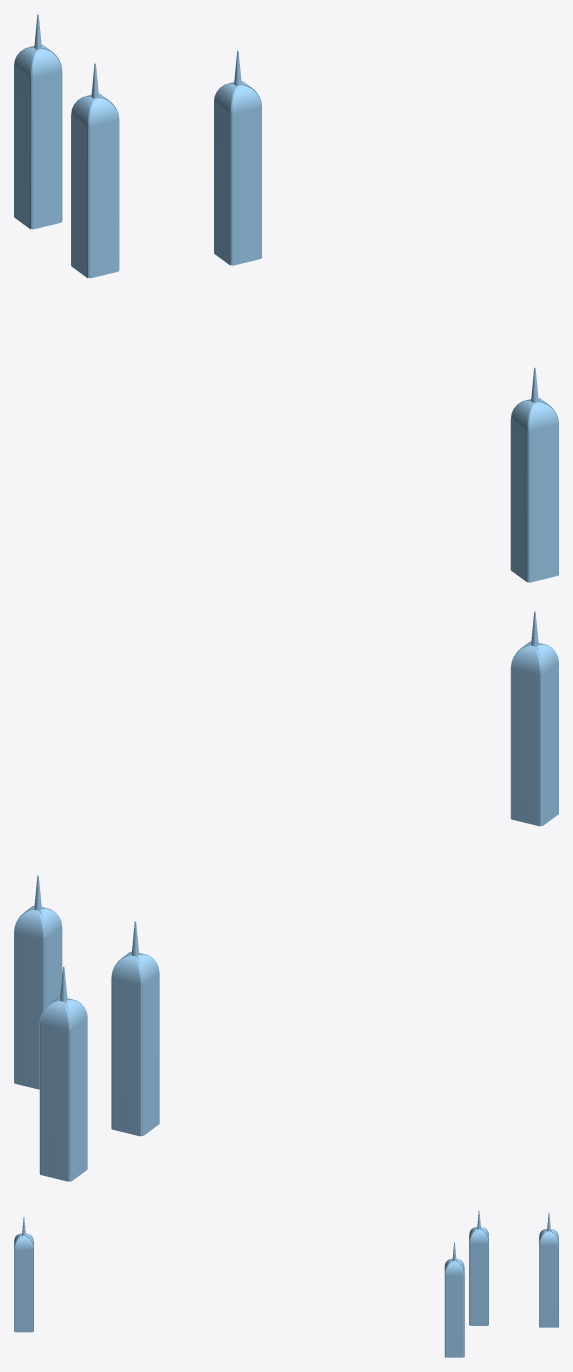
Rendered from B3VariantV2.fbx.
3 views of the same model, one above another, from view 1: azimuth 30°, elevation 25°; view 2: azimuth 150°, elevation 25°; view 3: azimuth 270°, elevation 25° (orthographic). The views are drawn at different scales.
Visible parts, largest first — view 1: B3__4_, B3__3_, B3__1_, B3__2_; view 2: B3__3_, B3__1_, B3__4_, B3__2_; view 3: B3__2_, B3__1_, B3__4_, B3__3_.
Part boxes in pixels (box(x1,y1,x2,y2)): B3__4_: box(71, 63, 119, 278); B3__3_: box(14, 14, 62, 229); B3__1_: box(510, 367, 558, 582); B3__2_: box(214, 50, 261, 265); B3__3_: box(39, 966, 87, 1181); B3__1_: box(510, 611, 558, 826); B3__4_: box(111, 921, 159, 1136); B3__2_: box(14, 875, 62, 1089); B3__2_: box(444, 1242, 464, 1357); B3__1_: box(14, 1217, 33, 1332); B3__4_: box(469, 1210, 488, 1325); B3__3_: box(539, 1212, 558, 1327).
Bounding box in the file's own units: 7937 × 10323 × 45461.
